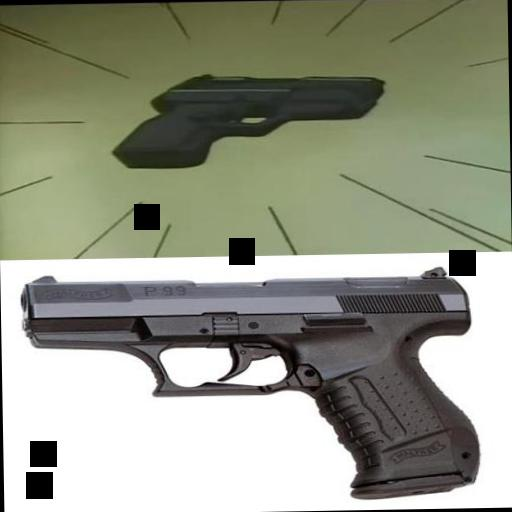Handgun: (18, 267, 482, 506), (108, 68, 386, 170)
